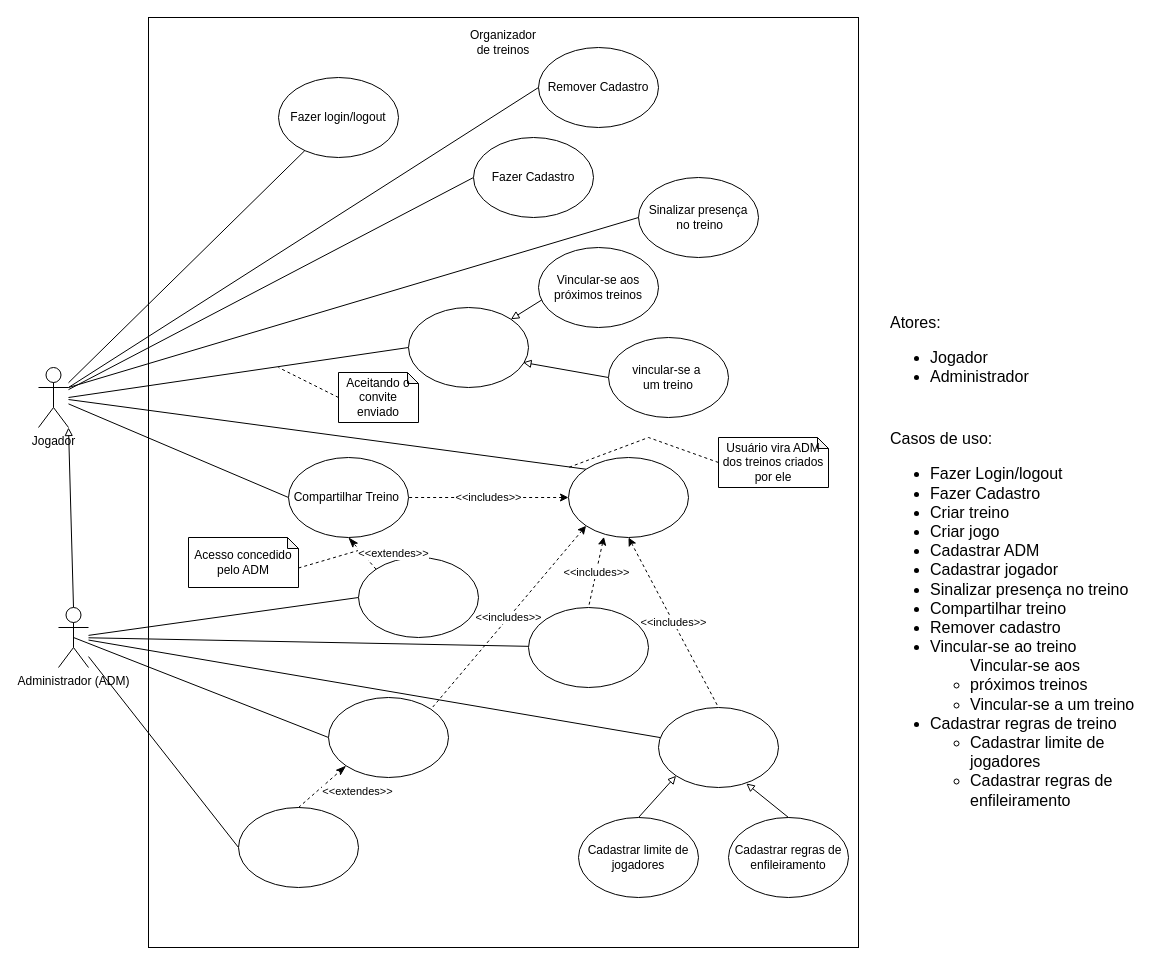
Image size: 1165x965. Some labels were removed from this diagram. Each missing label, with the centre of its shape:
"Cadastrar ADM" goes at pixel 298 847.
"Cadastrar jogador" goes at pixel 388 737.
"cadastrar regras de treino" goes at pixel 718 747.
"Compartilhar Treino acesso direto" goes at pixel 418 597.
"Criar jogo" goes at pixel 588 647.
"Criar Treino" goes at pixel 628 497.
"Vincular-se ao treino" goes at pixel 468 347.
